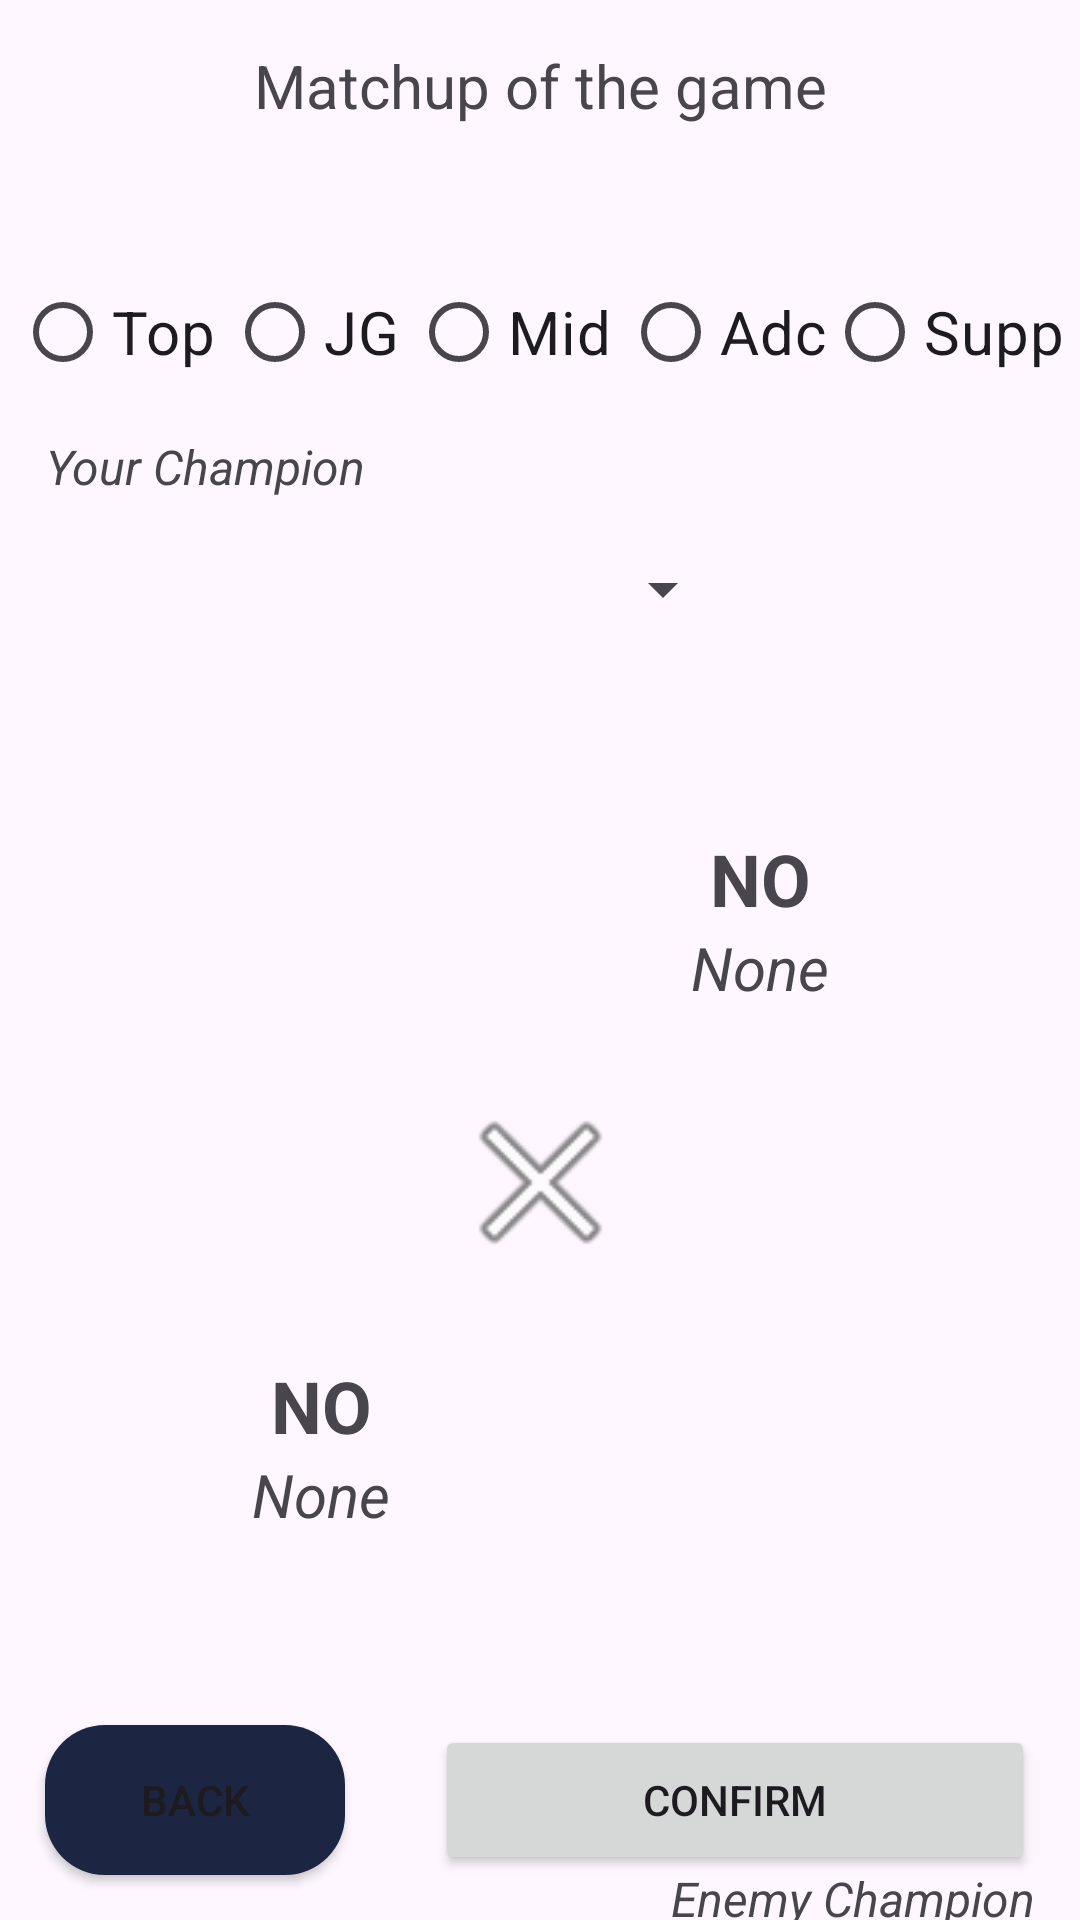

Icons on this 1080 × 1920 Android screen, each with its box as (x1, y1, x2, y2):
close clear cancel: (479, 1121, 602, 1244)
